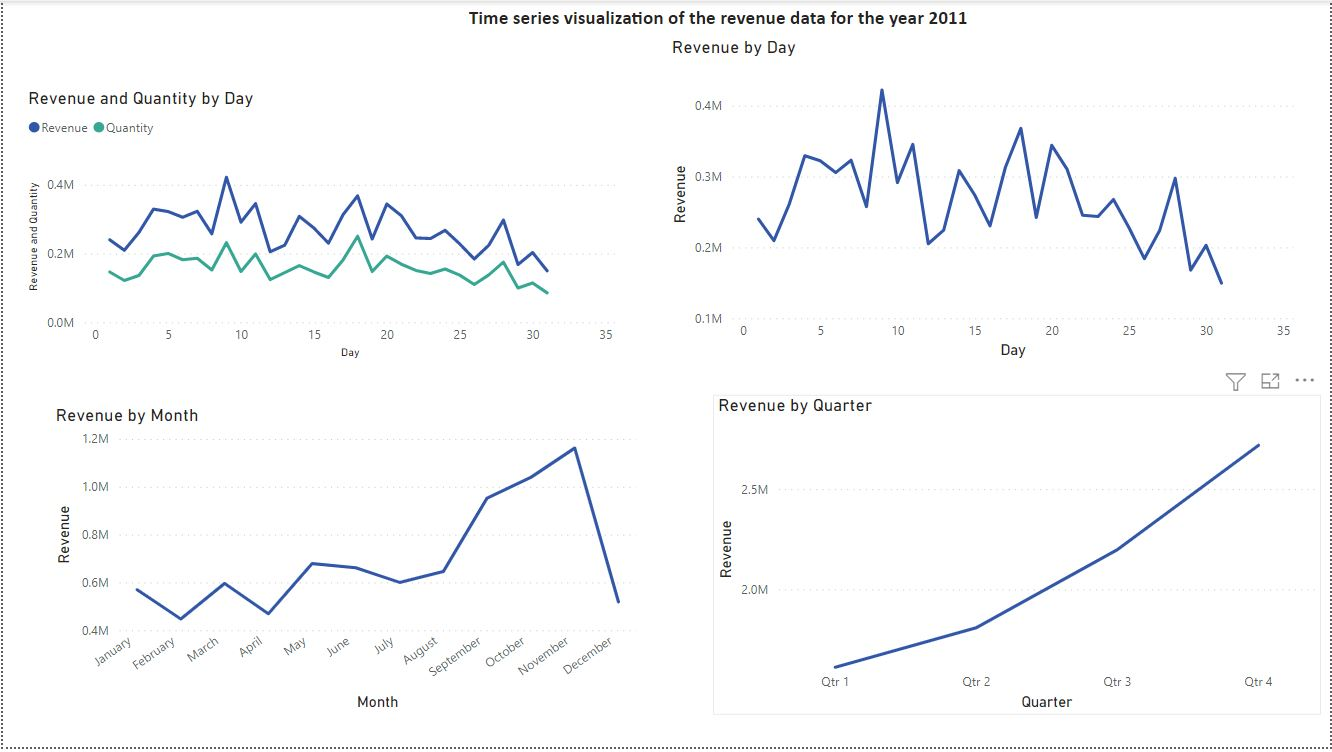

Layout of this report page (visuals, bound fields, positions):
{"tool":"powerbi","page":{"name":"Q1","canvas":[1280,720],"ordinal":0},"visuals":[{"type":"textbox","box":[9.6,0,1269.9,720],"z":0},{"type":"lineChart","fields":{"Category":["Retail cleaned.InvoiceDate.Variation.Date Hierarchy.Day","Retail cleaned.Quantity Hierarchy.Quantity"],"Y":["Sum(Retail cleaned.Revenue)","Sum(Retail cleaned.Quantity)"]},"box":[19.2,83.8,576.8,266.4],"z":1000},{"type":"lineChart","fields":{"Category":["Retail cleaned.InvoiceDate.Variation.Date Hierarchy.Day"],"Y":["Sum(Retail cleaned.Revenue)"]},"box":[640,34.3,609.8,315.9],"z":2000},{"type":"lineChart","fields":{"Category":["Retail cleaned.InvoiceDate.Variation.Date Hierarchy.Month"],"Y":["Sum(Retail cleaned.Revenue)"]},"box":[45.3,390,570,299.4],"z":3000},{"type":"lineChart","fields":{"Category":["Retail cleaned.InvoiceDate.Variation.Date Hierarchy.Quarter"],"Y":["Sum(Retail cleaned.Revenue)"]},"box":[685,379.9,586.1,308.7],"z":4000}]}

Visuals, with their boxes in screenshot pixels (x1, y1, x2, y2), scaled from the page's 1280x720 canvas onto the 1332x752 screenshot:
textbox: 10 0 1331 751
lineChart - Retail cleaned.InvoiceDate.Variation.Date Hierarchy.Day x Retail cleaned.Quantity Hierarchy.Quantity: 20 88 620 366
lineChart - Retail cleaned.InvoiceDate.Variation.Date Hierarchy.Day x Sum(Retail cleaned.Revenue): 666 36 1301 366
lineChart - Retail cleaned.InvoiceDate.Variation.Date Hierarchy.Month x Sum(Retail cleaned.Revenue): 47 407 640 720
lineChart - Retail cleaned.InvoiceDate.Variation.Date Hierarchy.Quarter x Sum(Retail cleaned.Revenue): 713 397 1323 719
